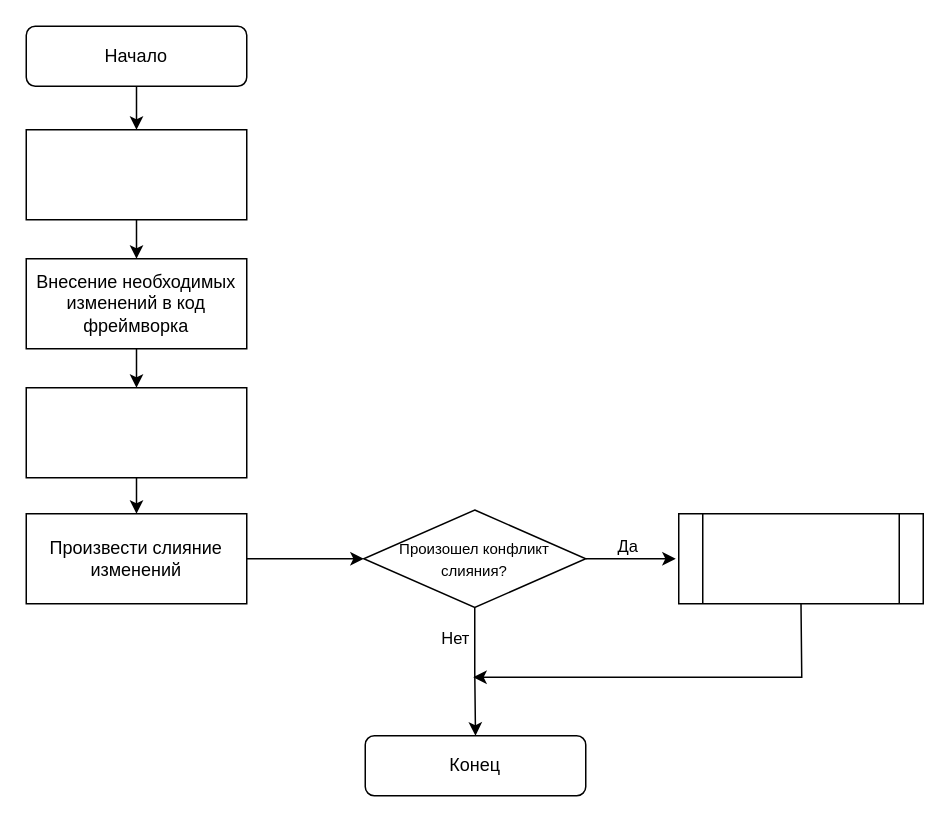
The diagram is 950 pixels wide and 822 high, and some of its shapes have lost their labels. Each missing label, with the centre of its shape:
Добавить Code-review на конфликтирующий код: the point at 800,558
Клонирование репозитория с иходным кодом фреймворка: the point at 136,174
Создание Pull Request для применения изменений: the point at 136,432
